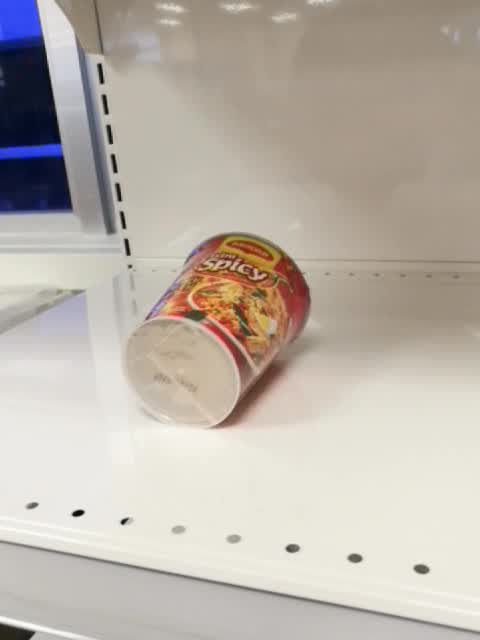maggi: (119, 230, 313, 429)
